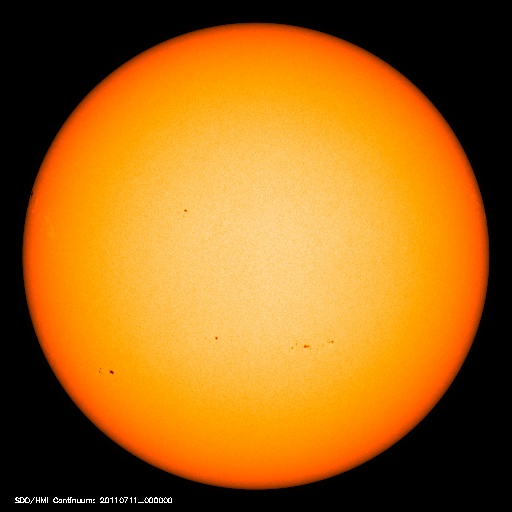sunspot: (282, 335, 348, 357), (90, 359, 126, 384), (172, 197, 197, 223), (203, 328, 226, 348)
